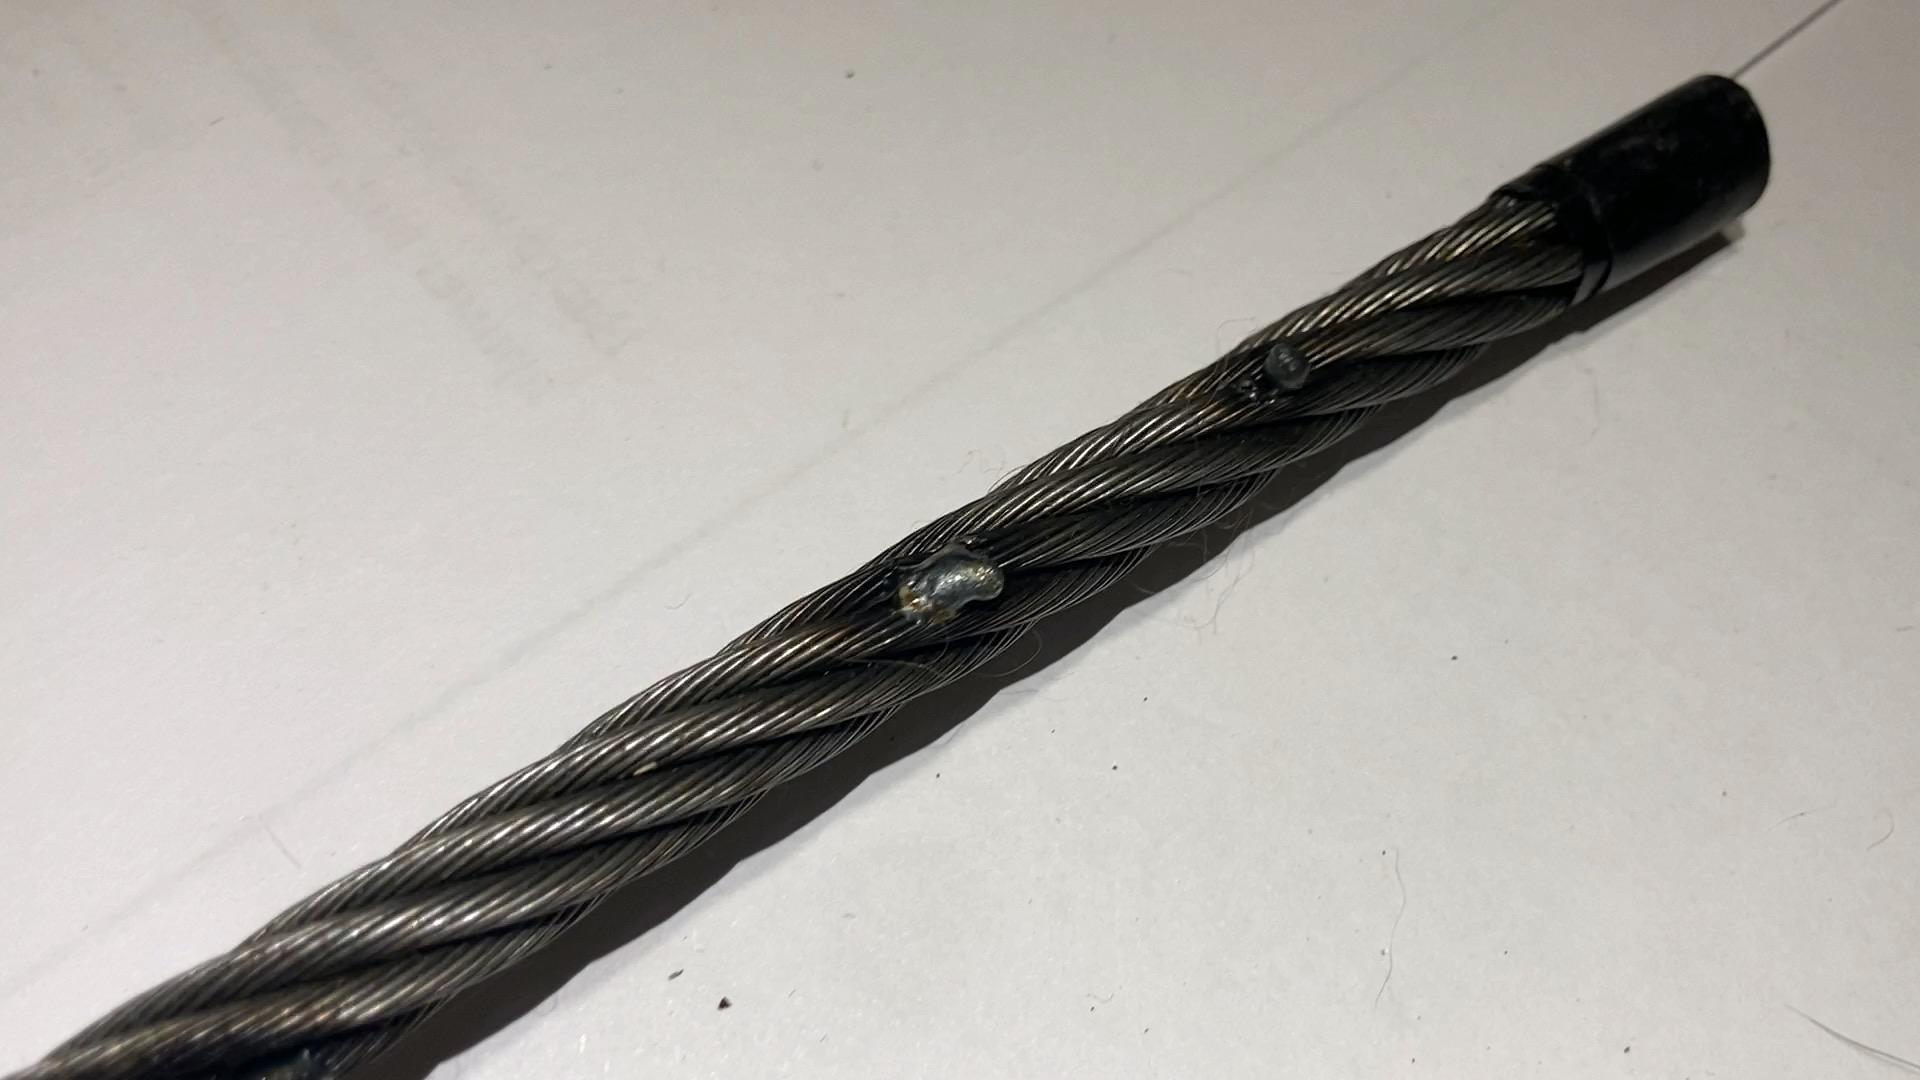thunderbolt: (887, 530, 1007, 624), (1258, 340, 1327, 393)
